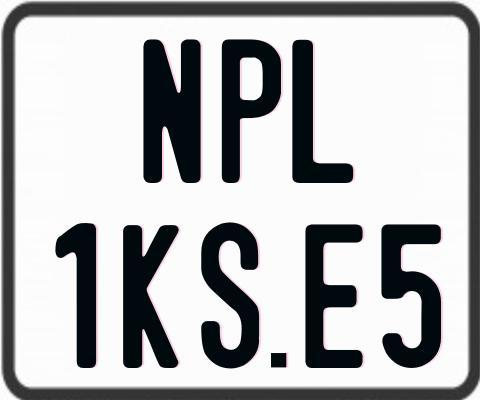1: (54, 220, 96, 368)
5: (379, 221, 440, 367)
E: (303, 222, 361, 372)
K: (120, 224, 178, 370)
L: (289, 39, 354, 187)
N: (143, 38, 205, 183)
P: (222, 36, 282, 180)
S: (198, 221, 257, 370)
